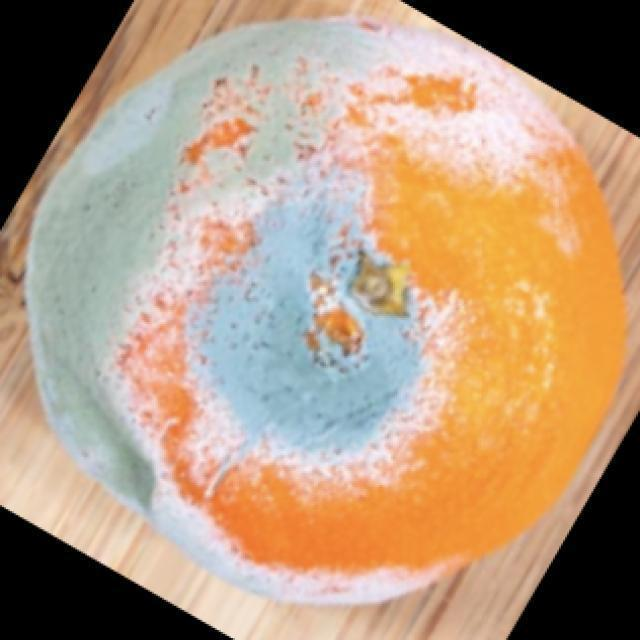Orange: (22, 14, 628, 606)
